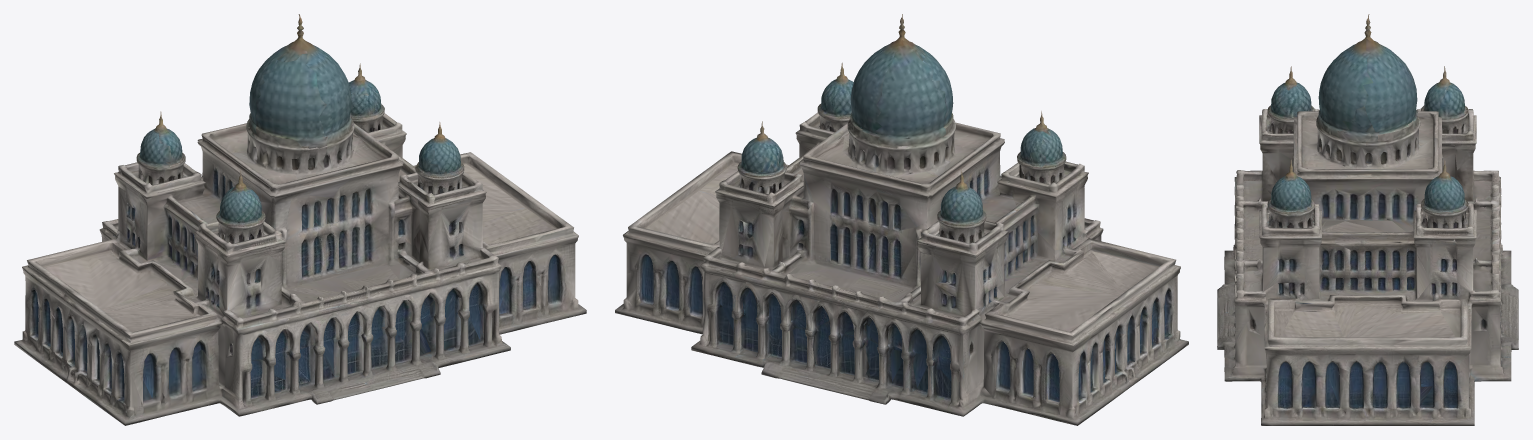
The model's file is Azure_Dome_Palace.glb.
The picture shows the model from 3 angles, left to right: view 1: azimuth 30°, elevation 25°; view 2: azimuth 150°, elevation 25°; view 3: azimuth 270°, elevation 25°; orthographic projection. The views are drawn at different scales.
Visible parts, largest first — view 1: Azure_Dome_Palace; view 2: Azure_Dome_Palace; view 3: Azure_Dome_Palace.
Part boxes in pixels (x1,y1,x2,y2): Azure_Dome_Palace: [14, 14, 586, 425]; Azure_Dome_Palace: [615, 14, 1188, 425]; Azure_Dome_Palace: [1217, 14, 1518, 425].
Bounding box in the file's own units: 1.9 × 1.25 × 1.12.
Materials: 1 (1 with a texture image).
